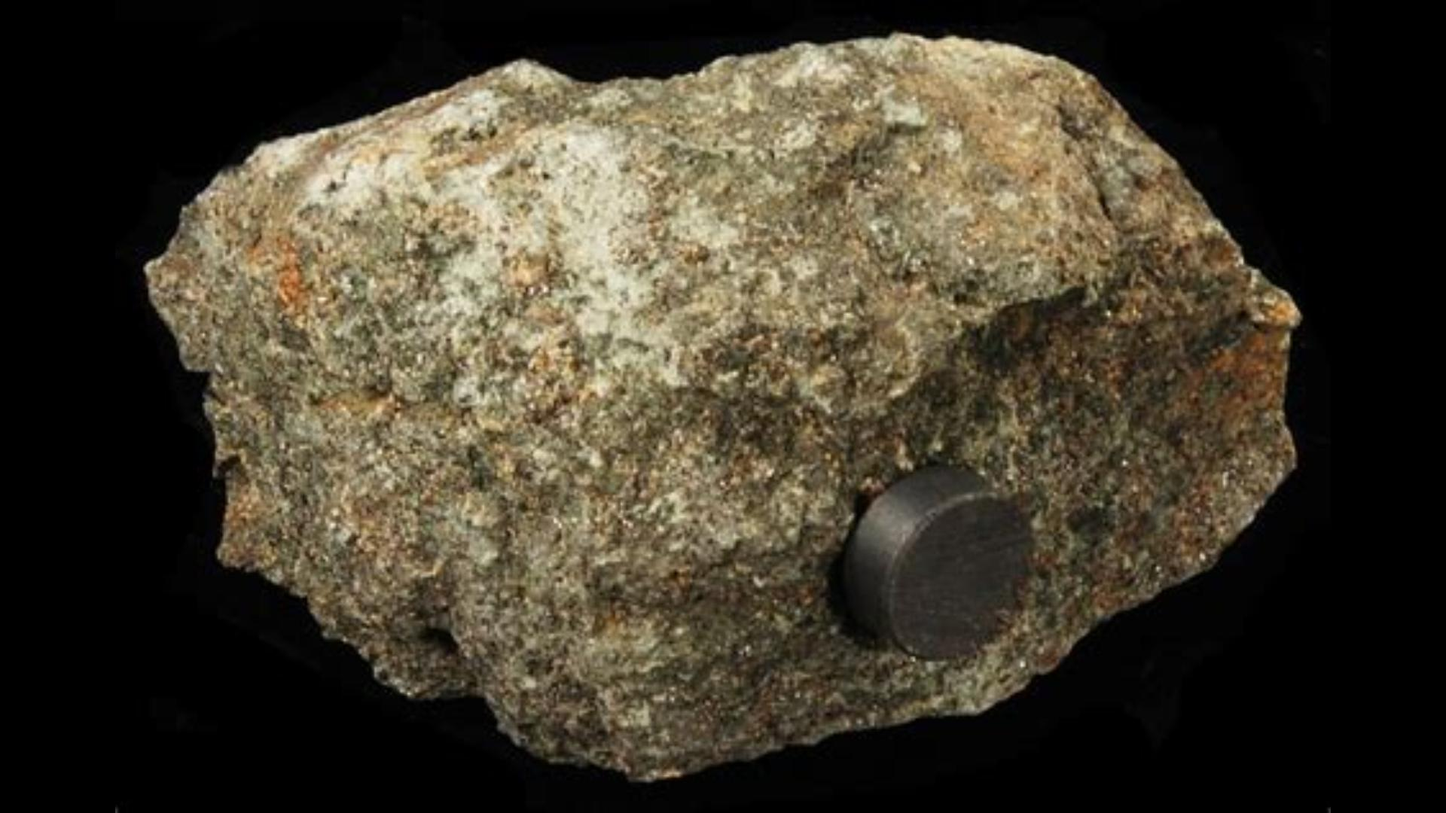rock: (146, 36, 1296, 777)
